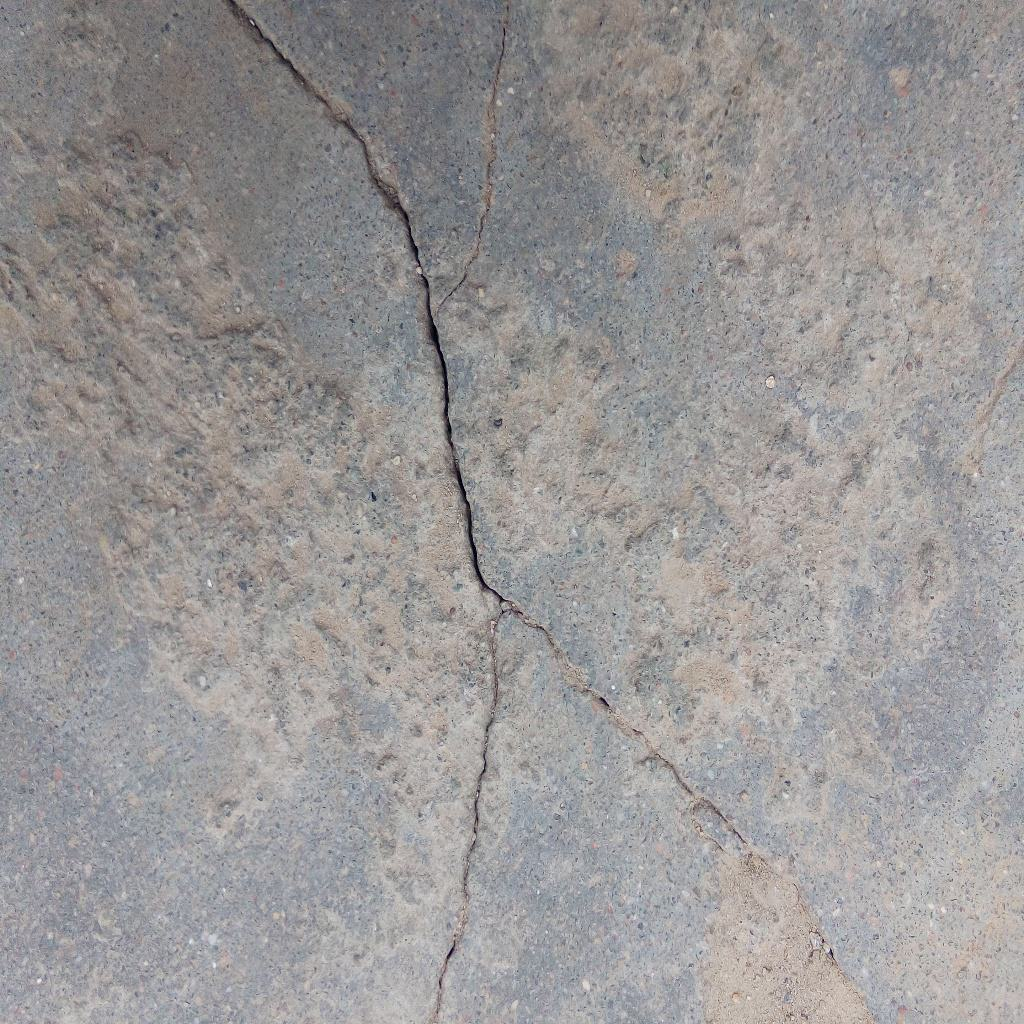Crack: (228, 1, 507, 605), (508, 607, 746, 849), (434, 606, 508, 1024), (433, 26, 505, 319)
Spalling: (698, 850, 872, 1024)
